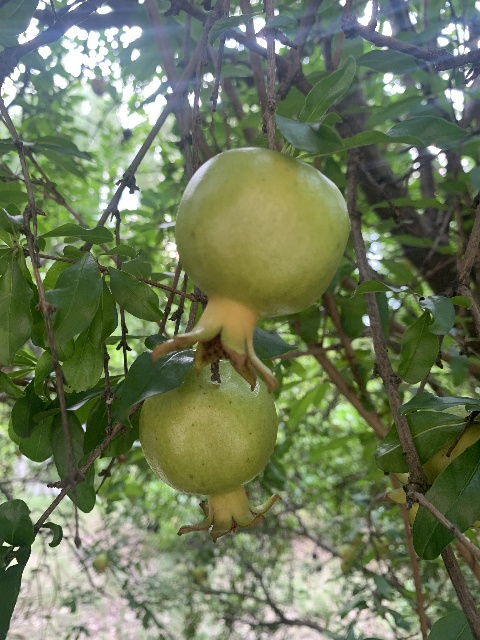mid-growth: (151, 146, 350, 393), (138, 360, 281, 542), (385, 405, 480, 530)
